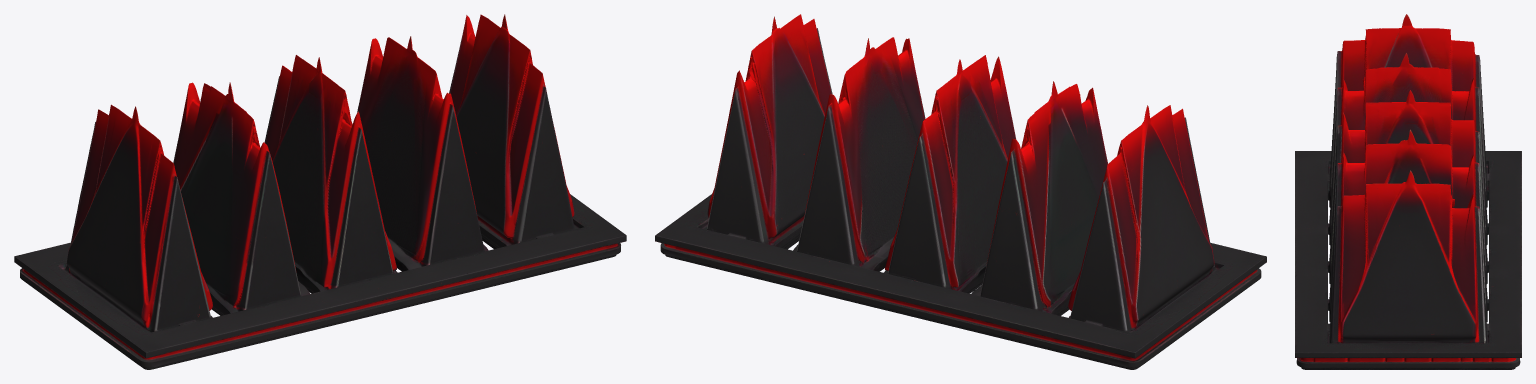
The model's file is spikes.glb.
3 renders of one model, left to right at view 1: azimuth 30°, elevation 25°; view 2: azimuth 150°, elevation 25°; view 3: azimuth 270°, elevation 25°, orthographic. The views are drawn at different scales.
Size of the model in its own units: 1.9 by 0.7931 by 0.9021.
Materials: 1 (1 with a texture image).
